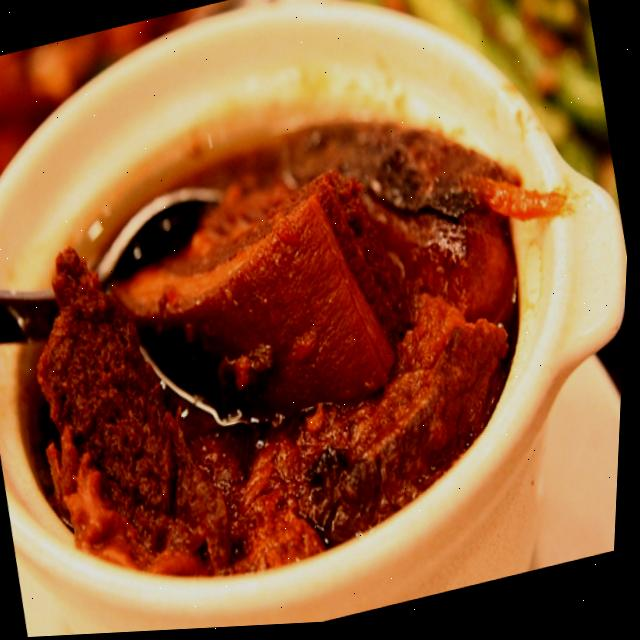汤锅炖物: (0, 42, 612, 637)
